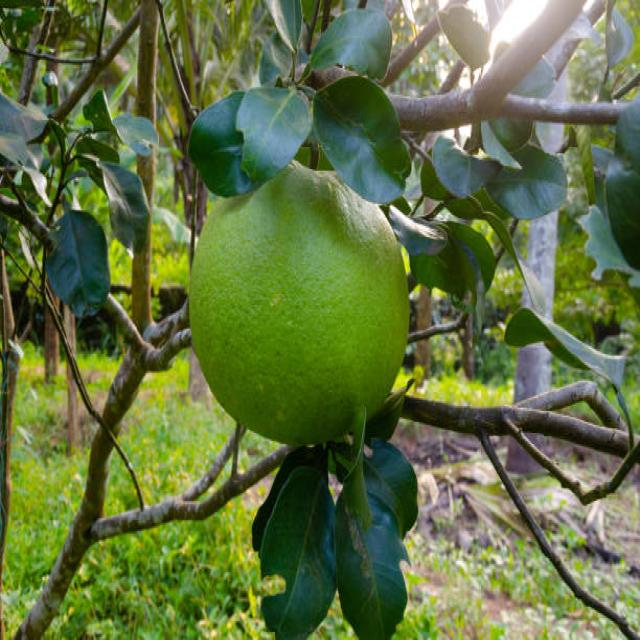Unripe: (189, 164, 407, 446)
